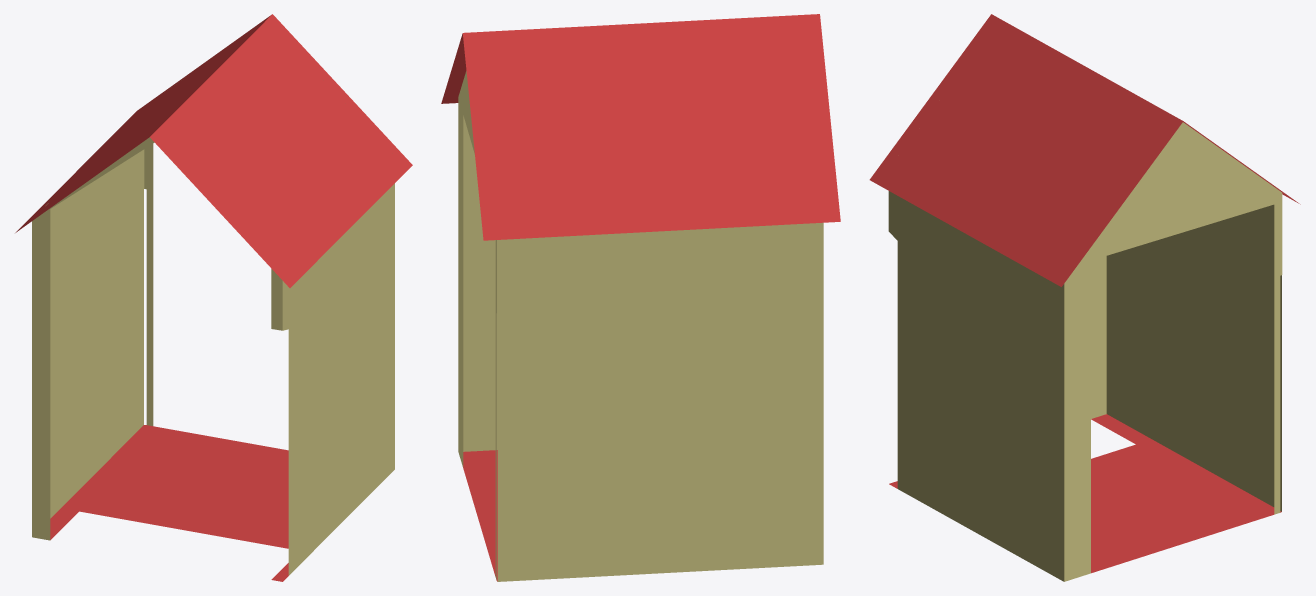
3 renders of one model, left to right at view 1: azimuth 30°, elevation 25°; view 2: azimuth 150°, elevation 25°; view 3: azimuth 270°, elevation 25°, orthographic. The views are drawn at different scales.
Bounding box in the file's own units: 15.93 × 15.81 × 17.35.
